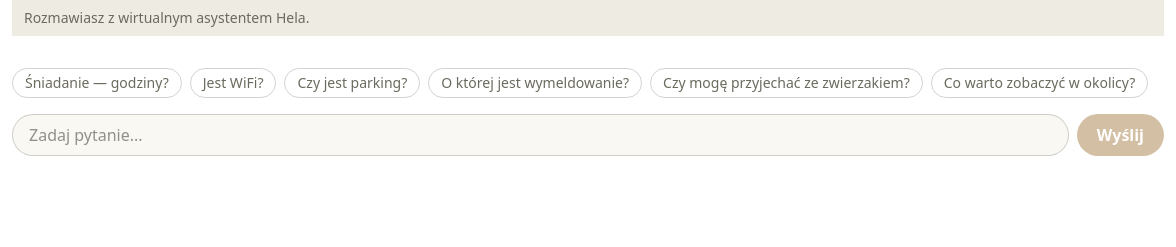
Test case: ConciergeChat › renders the fallback bubble when accumulated text is [FALLBACK]-prefixed
The width and height of the screenshot is (1176, 247).
Type "Czy hotel ma helipad?" into the field with placeholder "Zadaj pytanie..." at (540, 135), box [12,114,1069,156]
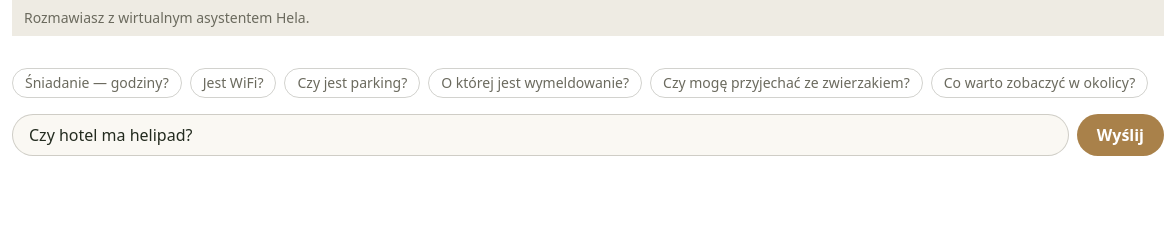
Click the button "Wyślij" at (1120, 135), box [1077,114,1164,156]
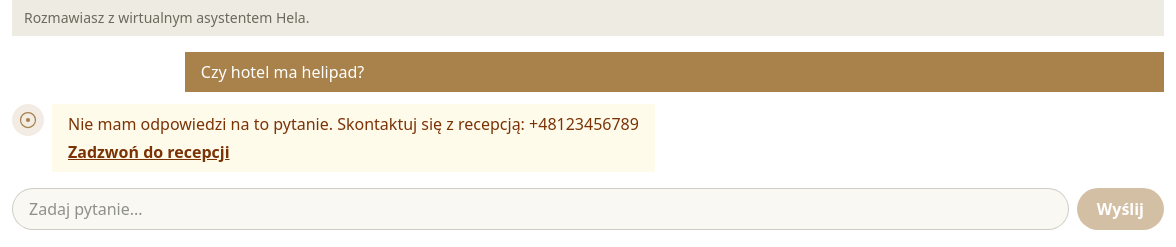
Expected: the text "Nie mam odpowiedzi na to pytanie. Skontaktuj się z recepcją: +48123456789" is shown, [68,112,639,136]
